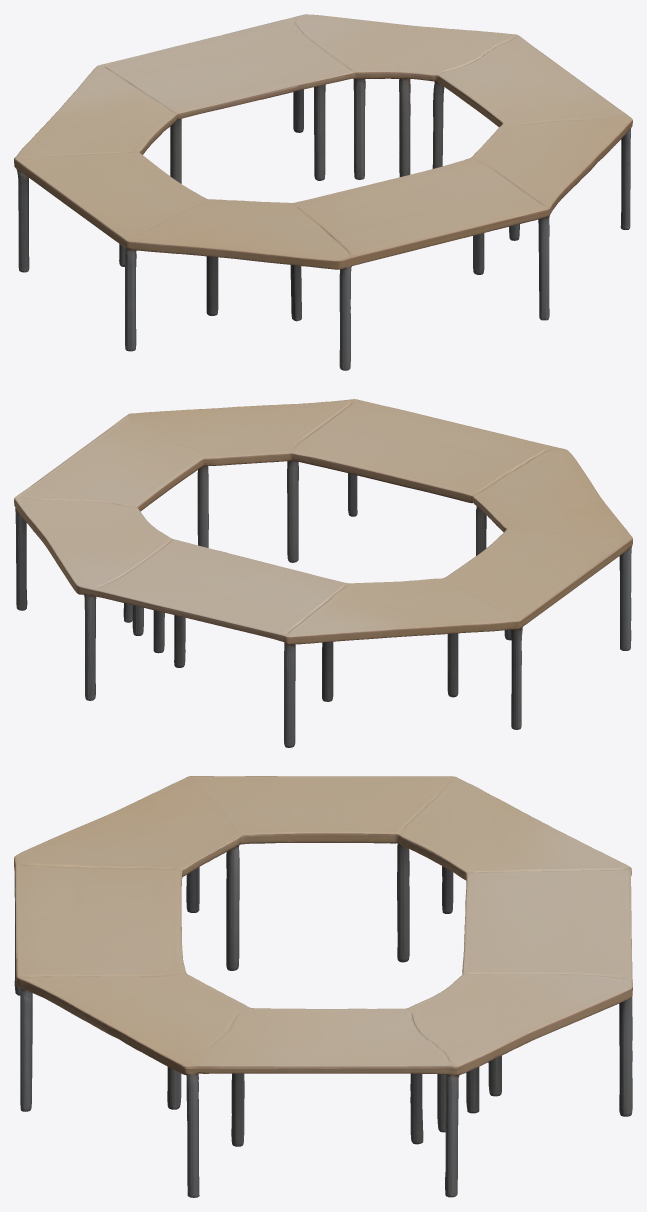
The model's file is ours_ties_realmask.glb.
The picture shows the model from 3 angles, top to bottom: view 1: azimuth 30°, elevation 25°; view 2: azimuth 150°, elevation 25°; view 3: azimuth 270°, elevation 25°; orthographic projection. The views are drawn at different scales.
Visible parts, largest first — view 1: world; view 2: world; view 3: world.
Part boxes in pixels (left/top/right/bottom): world: left=14, top=14, right=632, bottom=370; world: left=14, top=399, right=632, bottom=747; world: left=14, top=776, right=632, bottom=1197.
Bounding box in the file's own units: 1 × 0.2153 × 0.8991.
